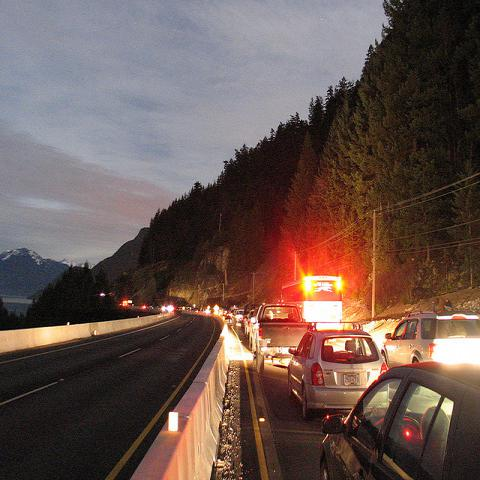bus: (280, 268, 349, 328)
car: (317, 357, 479, 473), (288, 335, 386, 417), (380, 312, 480, 371), (232, 310, 244, 328), (246, 310, 254, 335), (224, 306, 238, 318), (222, 310, 228, 316)
truck: (255, 306, 311, 374)
